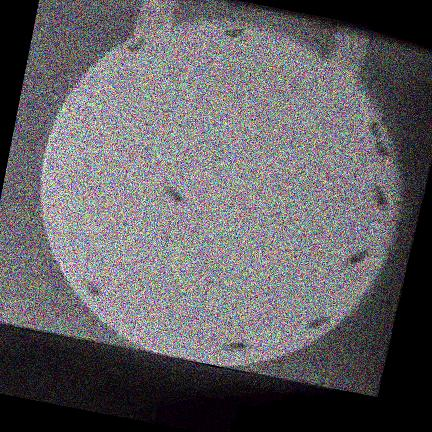fly: (344, 249, 369, 267), (164, 186, 186, 206), (304, 316, 331, 331), (374, 186, 389, 211), (82, 281, 99, 298), (376, 140, 390, 159), (127, 38, 144, 53), (221, 342, 246, 352), (224, 29, 246, 39), (368, 122, 381, 138)
